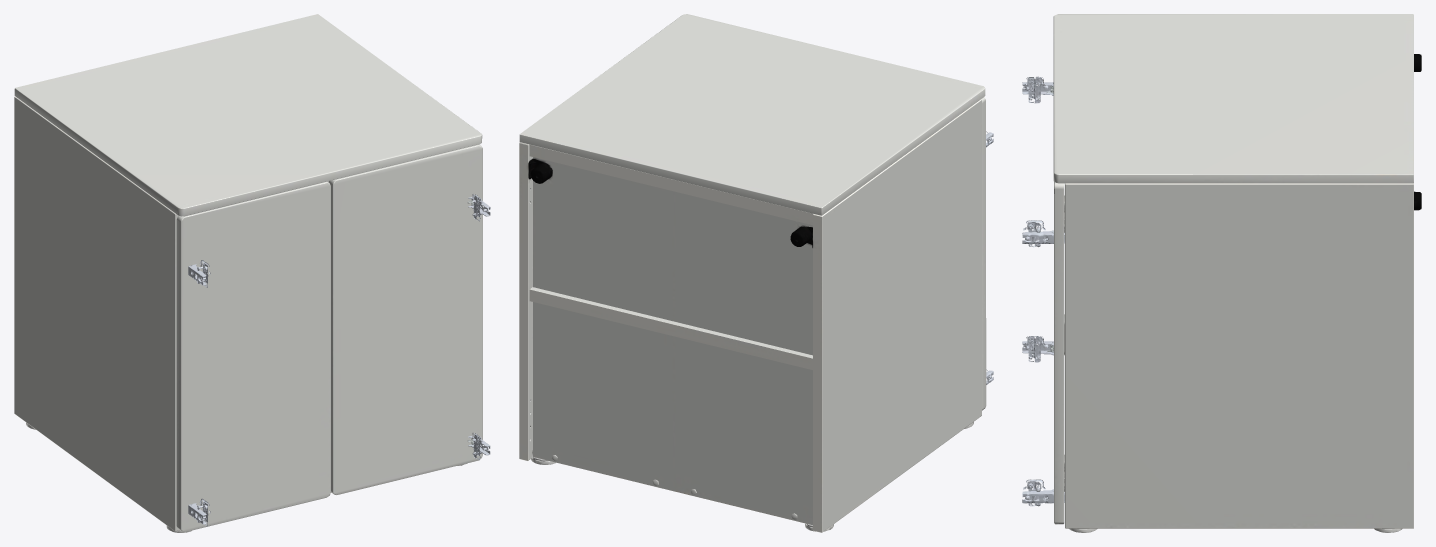
The model's file is smastad_platsa_szafka_39389189.glb.
3 views of the same model, side by side, from view 1: azimuth 30°, elevation 25°; view 2: azimuth 150°, elevation 25°; view 3: azimuth 270°, elevation 25° (orthographic). The views are drawn at different scales.
Parts seen in each view (by area): view 1: smastad_platsa_szafka_39389189; view 2: smastad_platsa_szafka_39389189; view 3: smastad_platsa_szafka_39389189.
Part boxes in pixels (left/top/right/bottom): smastad_platsa_szafka_39389189: left=14, top=14, right=490, bottom=532; smastad_platsa_szafka_39389189: left=519, top=14, right=993, bottom=532; smastad_platsa_szafka_39389189: left=1022, top=14, right=1421, bottom=532.
Bounding box in the file's own units: 0.6 × 0.626 × 0.6297.
1 material, 1 textured.
